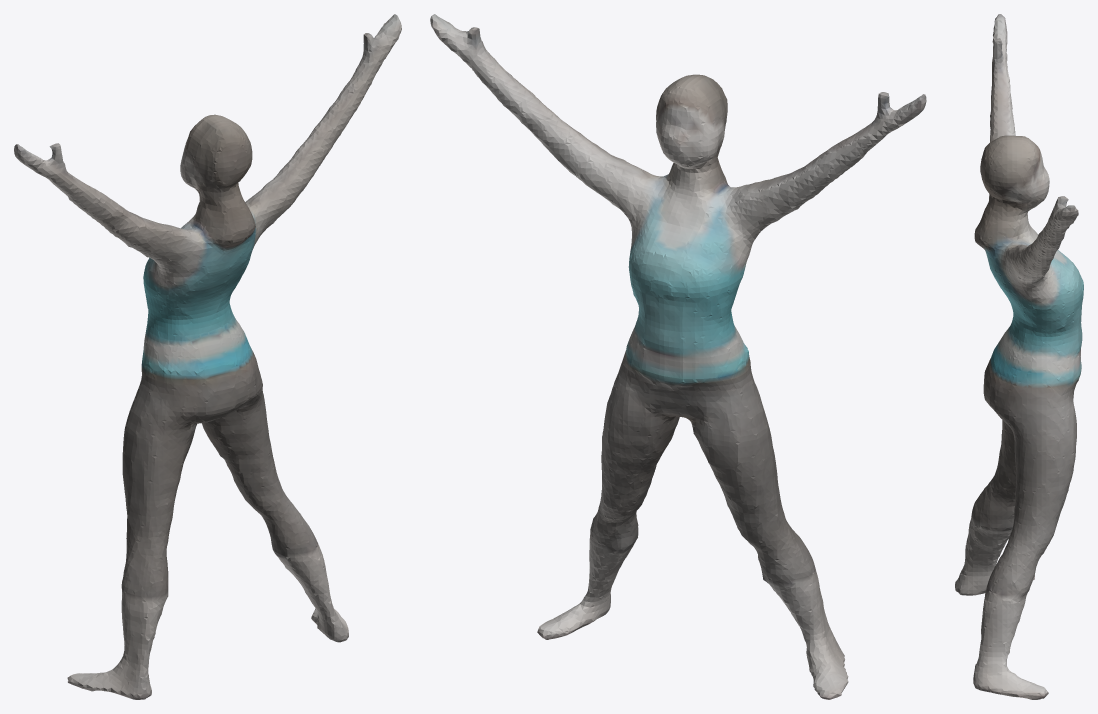
The model's file is tmpnp746o6r.glb.
3 renders of one model, left to right at view 1: azimuth 30°, elevation 25°; view 2: azimuth 150°, elevation 25°; view 3: azimuth 270°, elevation 25°, orthographic. The views are drawn at different scales.
Parts seen in each view (by area): view 1: world; view 2: world; view 3: world.
Part boxes in pixels (box(x1,y1,x2,y2)): world: box(14, 14, 401, 699); world: box(430, 14, 926, 699); world: box(955, 14, 1083, 699).
Bounding box in the file's own units: 1.53 × 1.97 × 0.4305.
